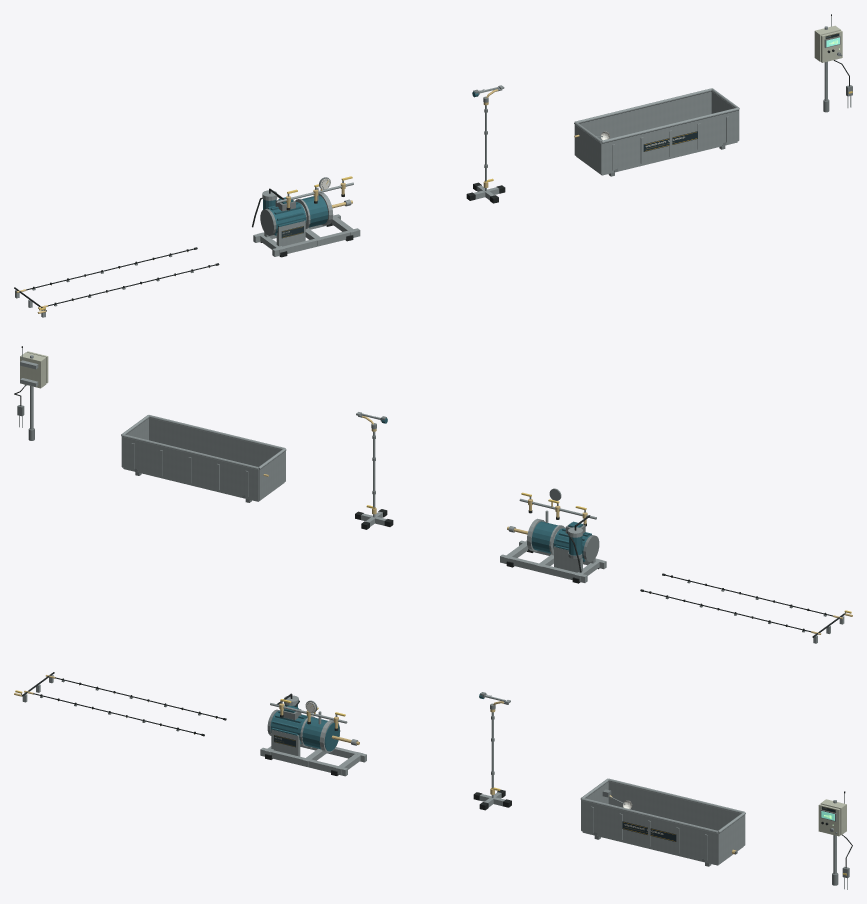
The model's file is PROJECT_Z_Greenhouse_Irrigation_GIK01_KIT.glb.
3 views of the same model, one above another, from view 1: azimuth 30°, elevation 25°; view 2: azimuth 150°, elevation 25°; view 3: azimuth 330°, elevation 25° (orthographic).
Visible parts, largest first — view 1: SM_Trough_Long_Walls, SM_Trough_End_Walls, SM_Trough_Rolled_Rim_Long, SM_Pump_Skid_Channels, SM_Pump_Skid_CrossBraces; view 2: SM_Trough_Long_Walls, SM_Trough_End_Walls, SM_Trough_Rolled_Rim_Long, SM_Pump_Skid_Channels, SM_Controller_IP67_RearChassis, SM_Pump_Skid_CrossBraces; view 3: SM_Trough_Long_Walls, SM_Trough_End_Walls, SM_Trough_Rolled_Rim_Long, SM_Pump_Skid_Channels, SM_Pump_Volute_Casing, SM_Pump_Motor_SteelCradle, SM_Trough_Corrugation_Reinforcement, SM_Controller_Front_OpeningDoor, SM_Pump_Skid_CrossBraces, SM_Trough_ManufacturerPlate.
Part boxes in pixels (box(x1,y1,x2,y2)): SM_Trough_Long_Walls: box(579, 91, 738, 174); SM_Trough_End_Walls: box(574, 91, 739, 174); SM_Trough_Rolled_Rim_Long: box(575, 88, 738, 143); SM_Pump_Skid_Channels: box(253, 214, 360, 256); SM_Pump_Skid_CrossBraces: box(259, 215, 356, 255); SM_Trough_Long_Walls: box(122, 418, 280, 500); SM_Trough_End_Walls: box(121, 418, 285, 500); SM_Trough_Rolled_Rim_Long: box(121, 415, 285, 469); SM_Pump_Skid_Channels: box(500, 540, 606, 582); SM_Controller_IP67_RearChassis: box(20, 352, 46, 388); SM_Pump_Skid_CrossBraces: box(503, 541, 600, 581); SM_Trough_Long_Walls: box(581, 782, 740, 864); SM_Trough_End_Walls: box(581, 782, 745, 864); SM_Trough_Rolled_Rim_Long: box(581, 778, 744, 833); SM_Pump_Skid_Channels: box(260, 746, 366, 776); SM_Pump_Volute_Casing: box(302, 717, 339, 751); SM_Pump_Motor_SteelCradle: box(271, 729, 312, 756); SM_Trough_Corrugation_Reinforcement: box(591, 806, 707, 860); SM_Controller_Front_OpeningDoor: box(818, 804, 840, 836); SM_Pump_Skid_CrossBraces: box(264, 746, 362, 774); SM_Trough_ManufacturerPlate: box(622, 821, 676, 841).
Size of the model in its own units: 14.48 by 1.8 by 0.976.
12 materials, 6 textured.
